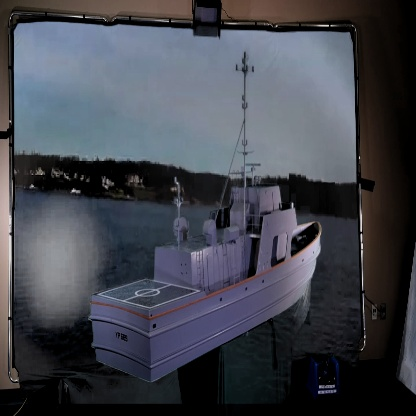YP689: (87, 49, 323, 384)
